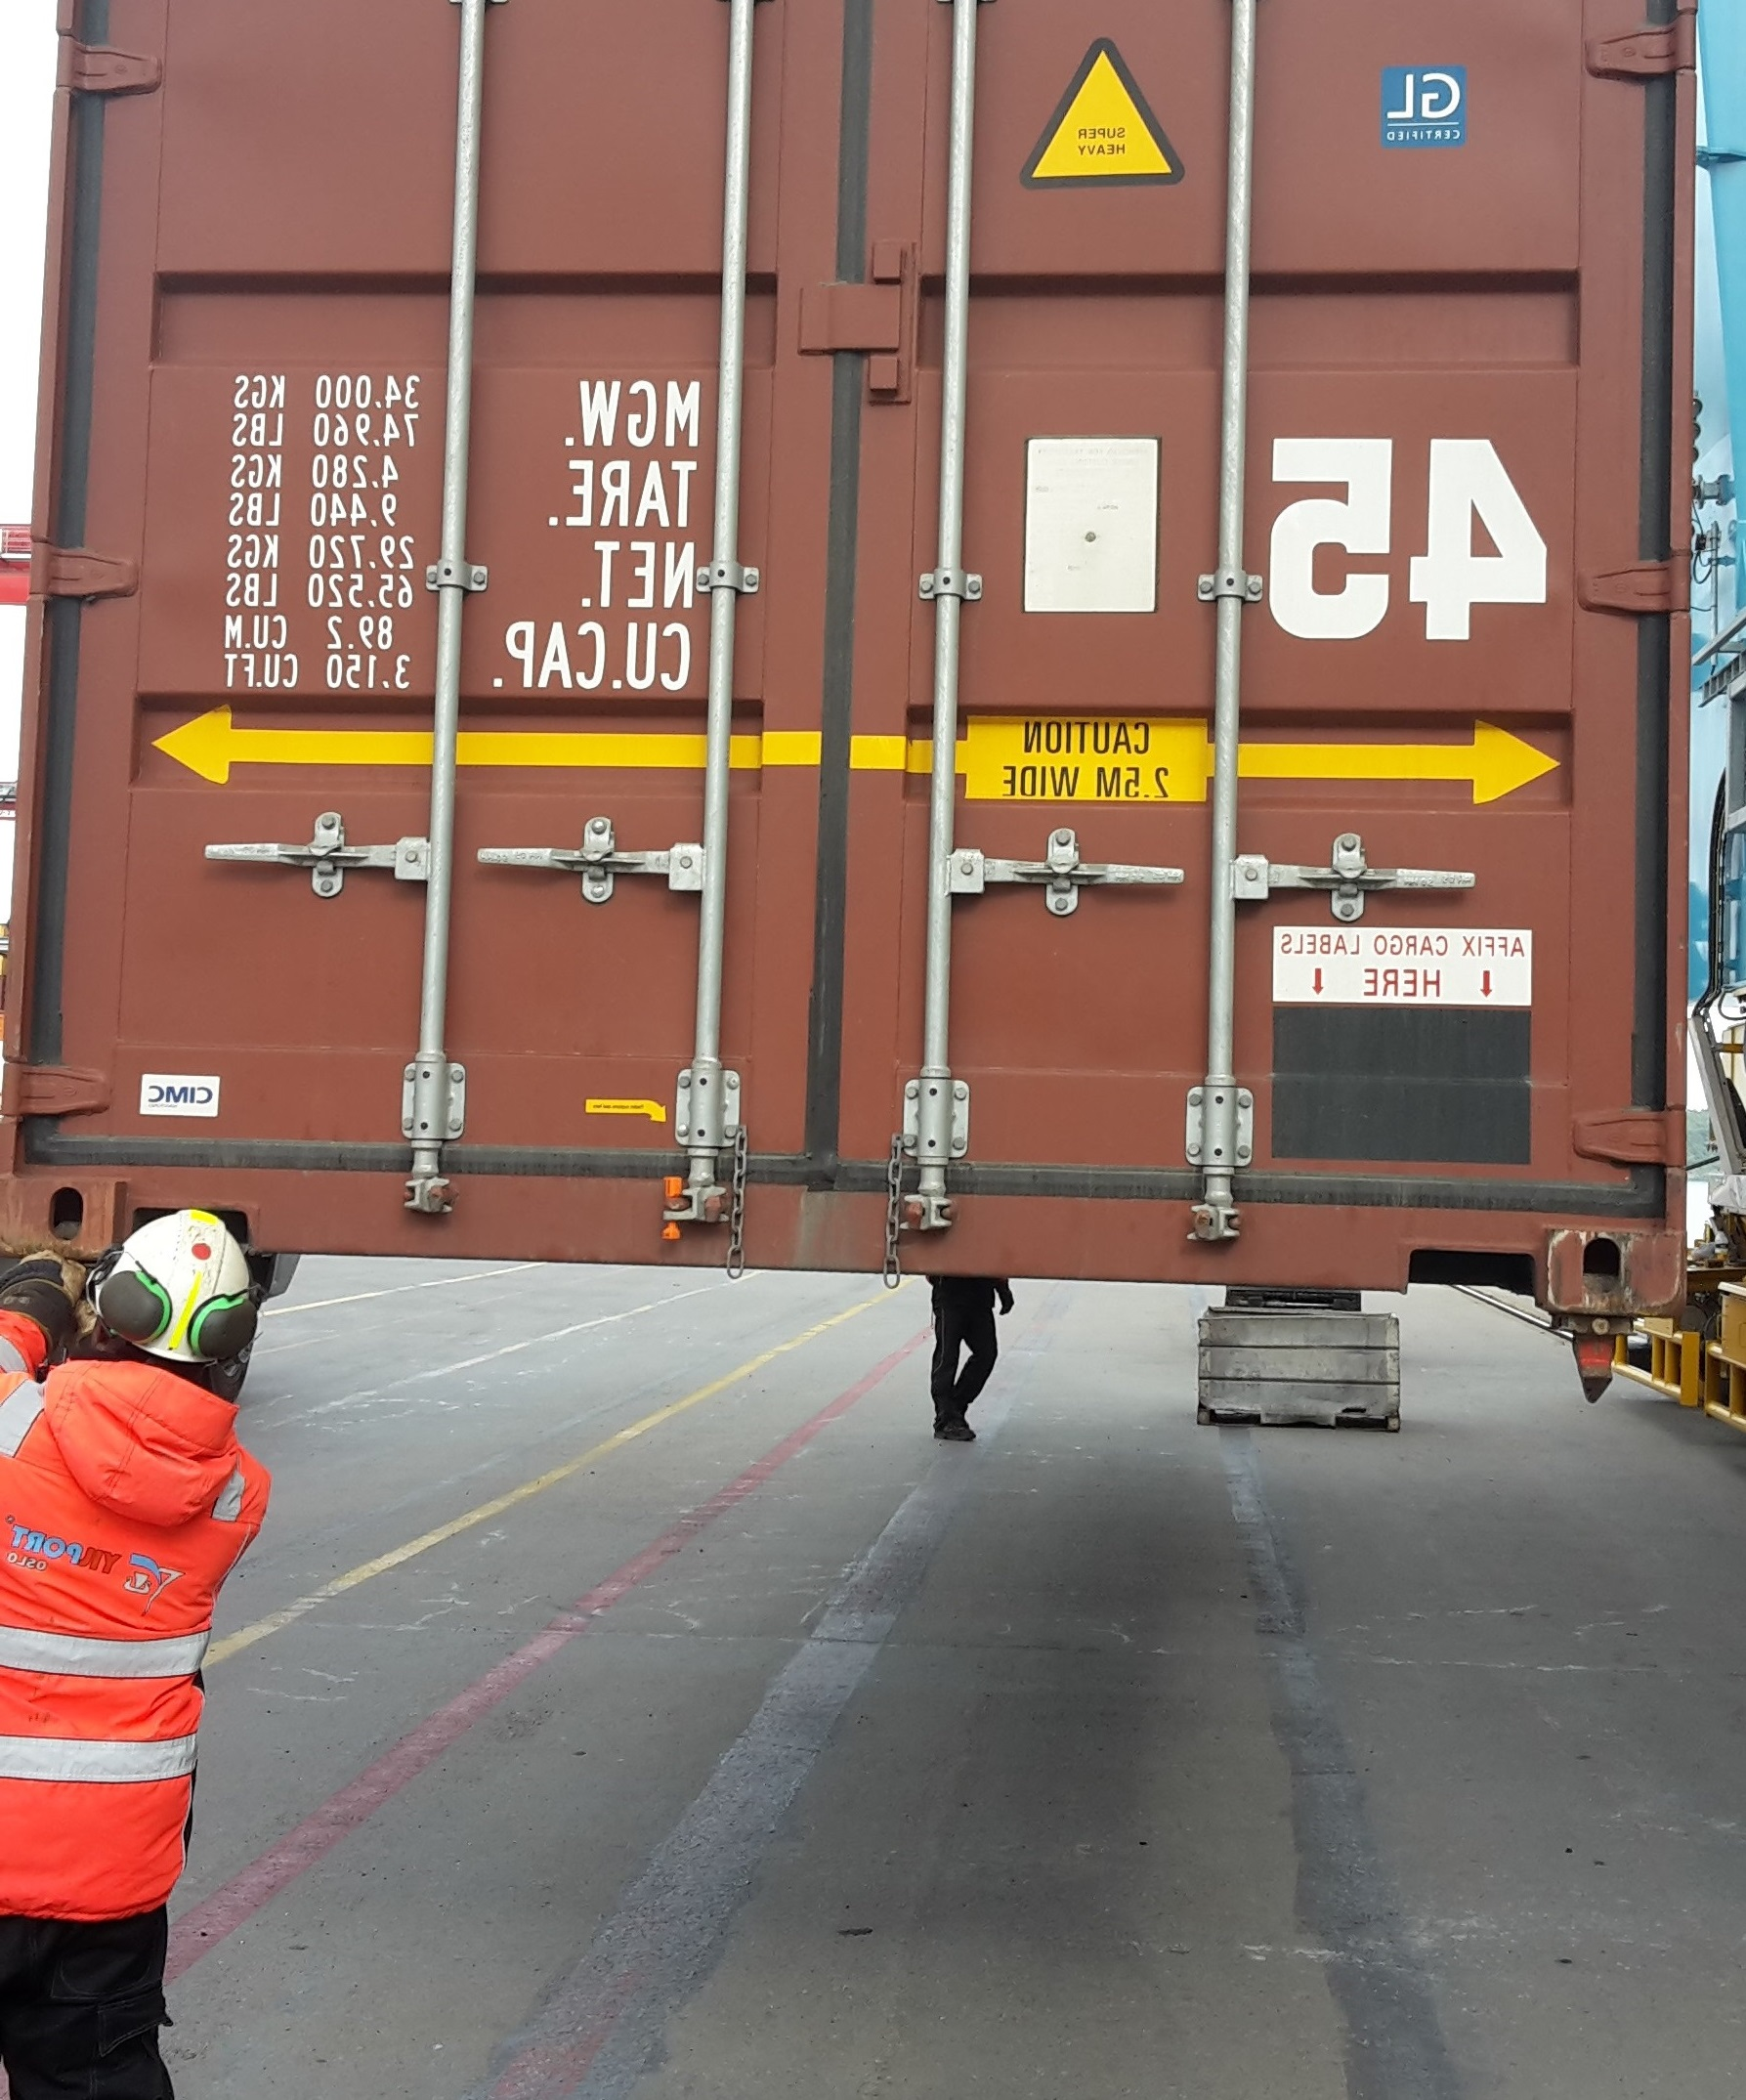container_door: (7, 2, 1688, 1333)
